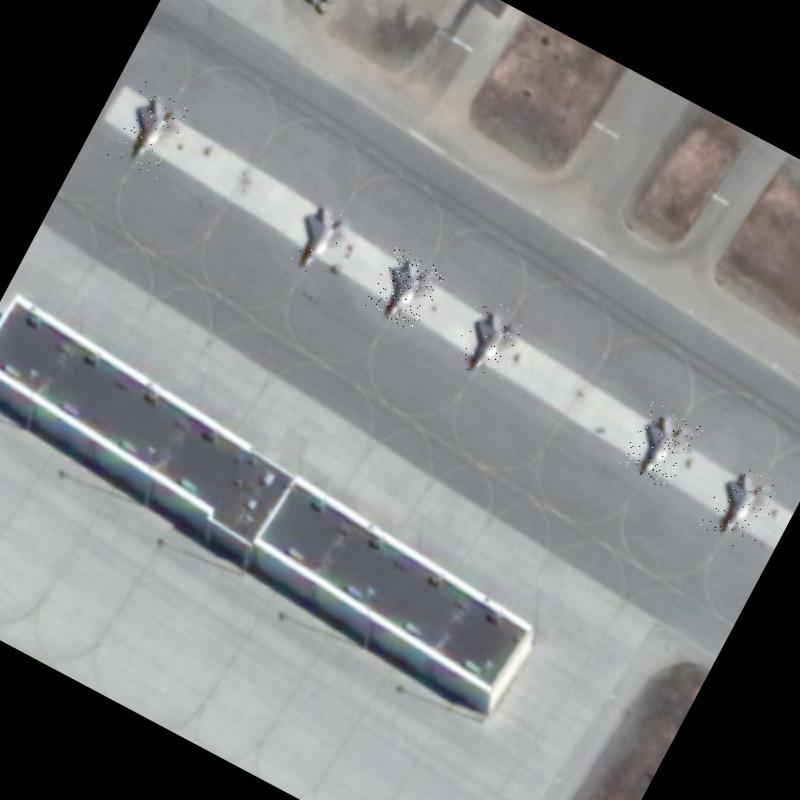A15: (104, 80, 196, 182), (696, 455, 786, 554), (276, 192, 364, 288), (445, 292, 534, 386), (616, 400, 703, 492), (363, 244, 447, 332)
